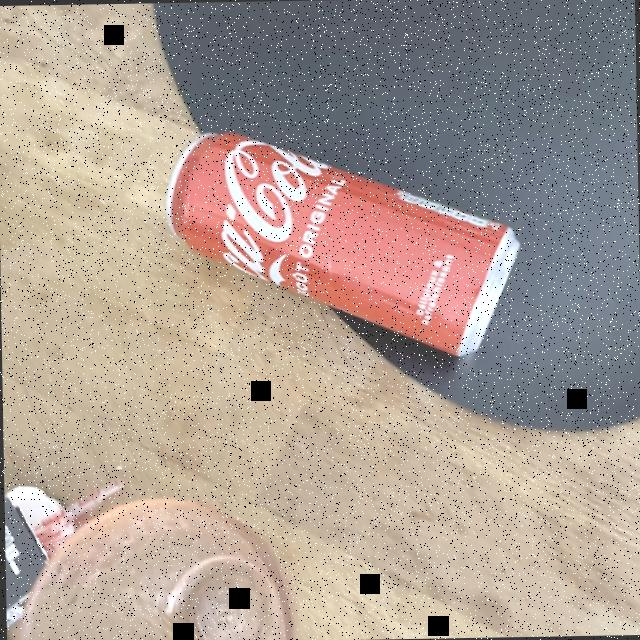can: (132, 130, 528, 370)
